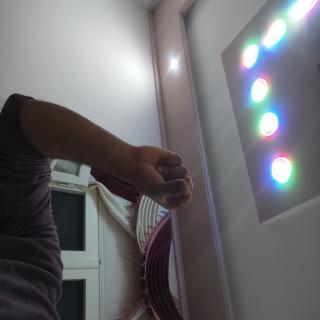QAAF: (108, 166, 159, 254)
